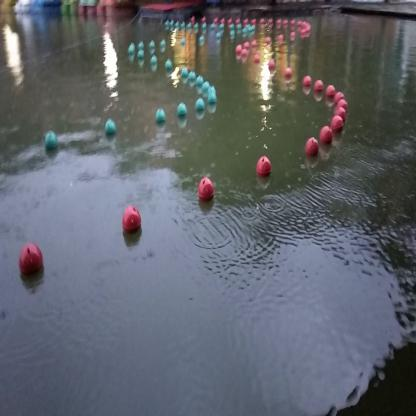green_buoy: (44, 130, 58, 152), (156, 108, 166, 127), (104, 120, 116, 135), (194, 96, 204, 113), (178, 103, 186, 122), (208, 92, 218, 106)
red_buoy: (21, 244, 45, 284), (122, 206, 140, 236), (198, 178, 215, 203), (257, 156, 272, 178), (304, 138, 318, 158), (331, 115, 344, 136), (320, 128, 332, 147)
